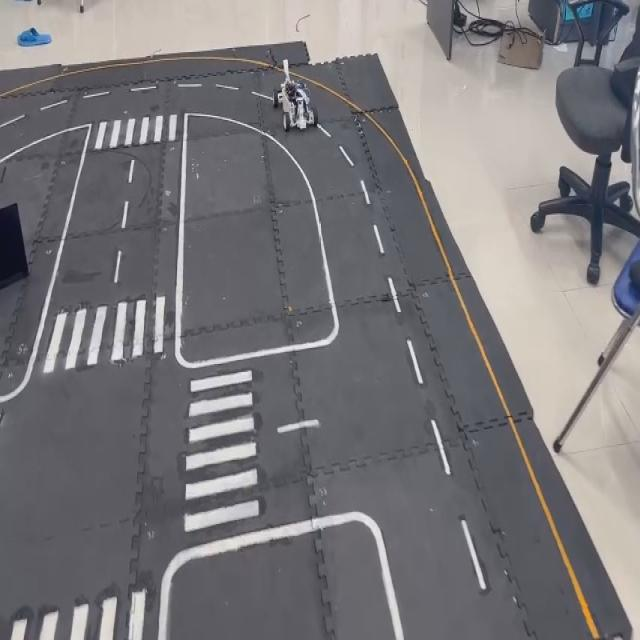SiCo-CAR: (272, 57, 318, 132)
